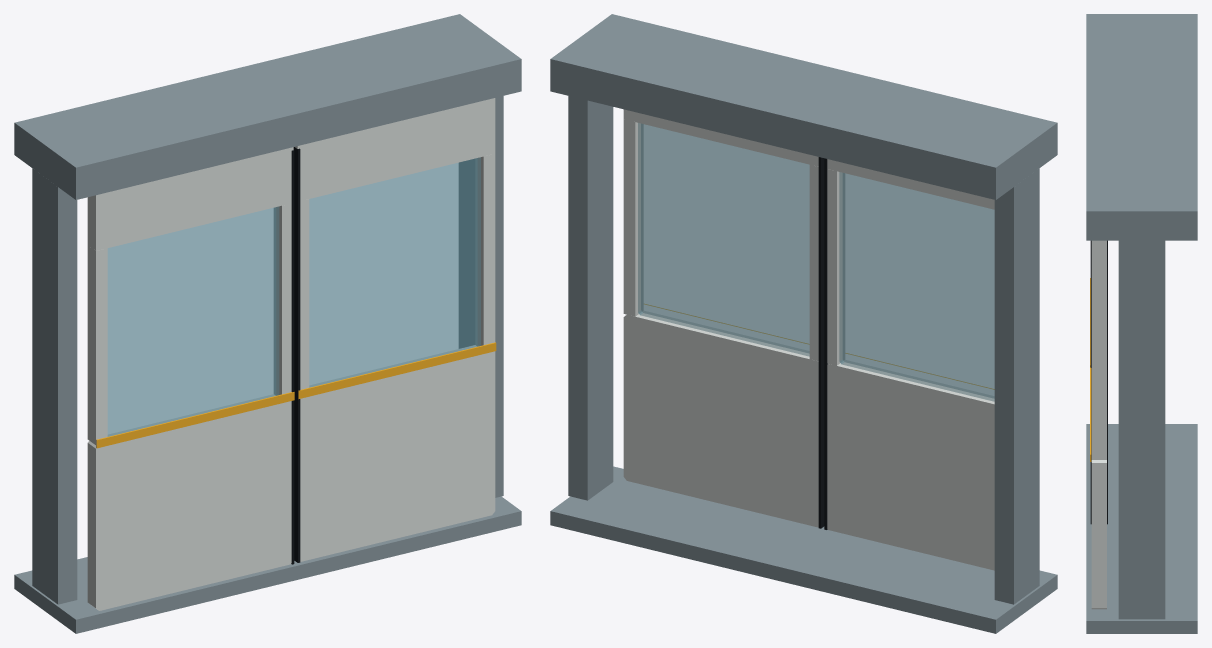
The model's file is sg-train-door.glb.
3 views of the same model, side by side, from view 1: azimuth 30°, elevation 25°; view 2: azimuth 150°, elevation 25°; view 3: azimuth 270°, elevation 25° (orthographic). The views are drawn at different scales.
Visible parts, largest first — view 1: body; view 2: body; view 3: body.
Boxes of the visible parts, x1,y1,x2,y2 form: body: [14, 14, 521, 633]; body: [550, 14, 1057, 633]; body: [1086, 14, 1197, 633].
Size of the model in its own units: 2.3 by 2.3 by 0.55.
